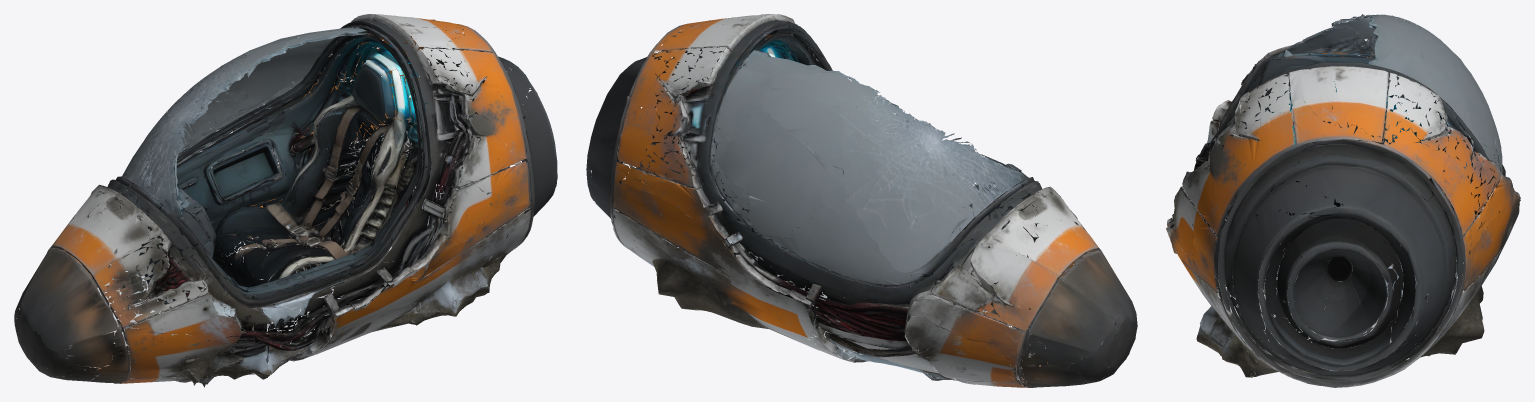
Rendered from scout_ejection_pod_chassis.glb.
3 renders of one model, left to right at view 1: azimuth 30°, elevation 25°; view 2: azimuth 150°, elevation 25°; view 3: azimuth 270°, elevation 25°, orthographic. The views are drawn at different scales.
Visible parts, largest first — view 1: node_0; view 2: node_0; view 3: node_0.
Boxes of the visible parts, <box> form: node_0: <box>14,14,557,387</box>; node_0: <box>586,14,1137,387</box>; node_0: <box>1166,14,1520,387</box>.
Size of the model in its own units: 1.15 by 0.6318 by 0.6178.
Materials: 1 (1 with a texture image).
